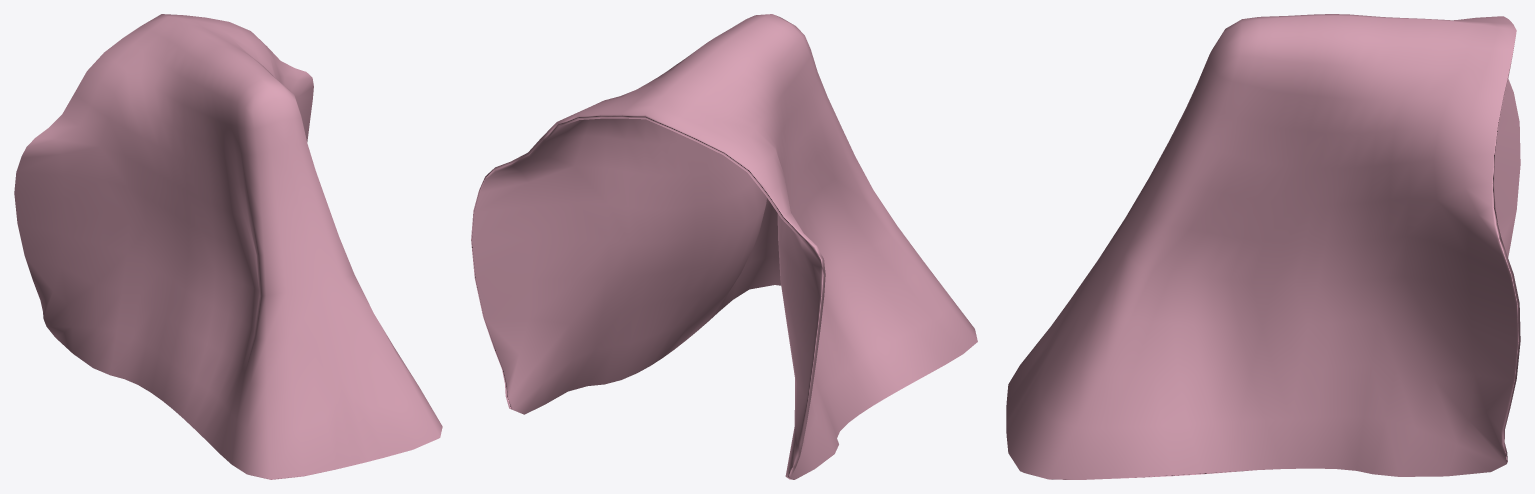
3 views of the same model, side by side, from view 1: azimuth 30°, elevation 25°; view 2: azimuth 150°, elevation 25°; view 3: azimuth 270°, elevation 25° (orthographic). The views are drawn at different scales.
Visible parts, largest first — view 1: 鼻咽; view 2: 鼻咽; view 3: 鼻咽.
Boxes of the visible parts, x1,y1,x2,y2 form: 鼻咽: [14, 14, 442, 479]; 鼻咽: [471, 14, 977, 479]; 鼻咽: [1006, 14, 1520, 479].
Size of the model in its own units: 0.0516 by 0.0528 by 0.0605.
